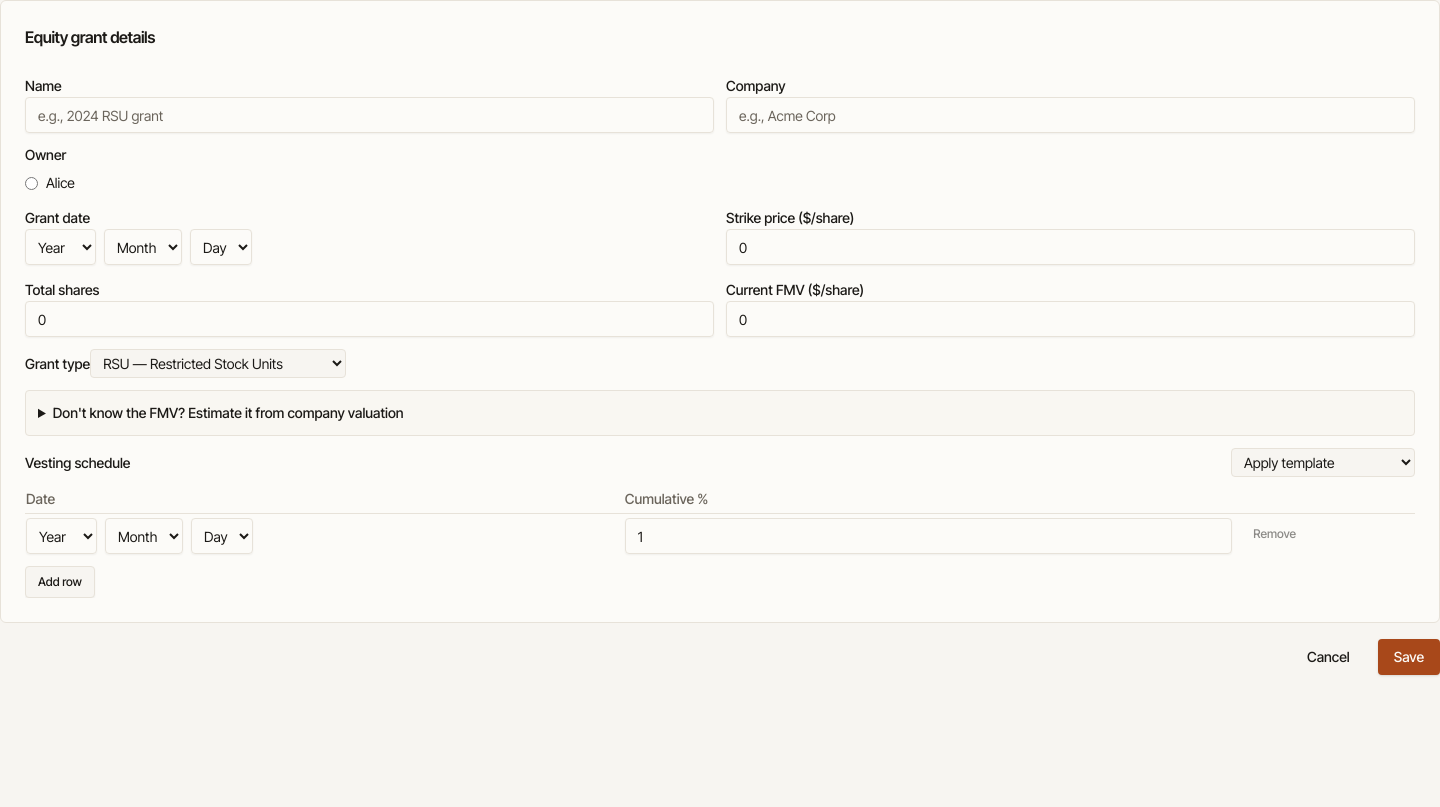
Test: EquityGrantForm — calculator section › "Use this value" writes the computed value into currentFmv
The image size is (1440, 807).
Click the heading "Don't know the FMV? Estimate it from company valuation": [228, 412] box [53,404,404,421]
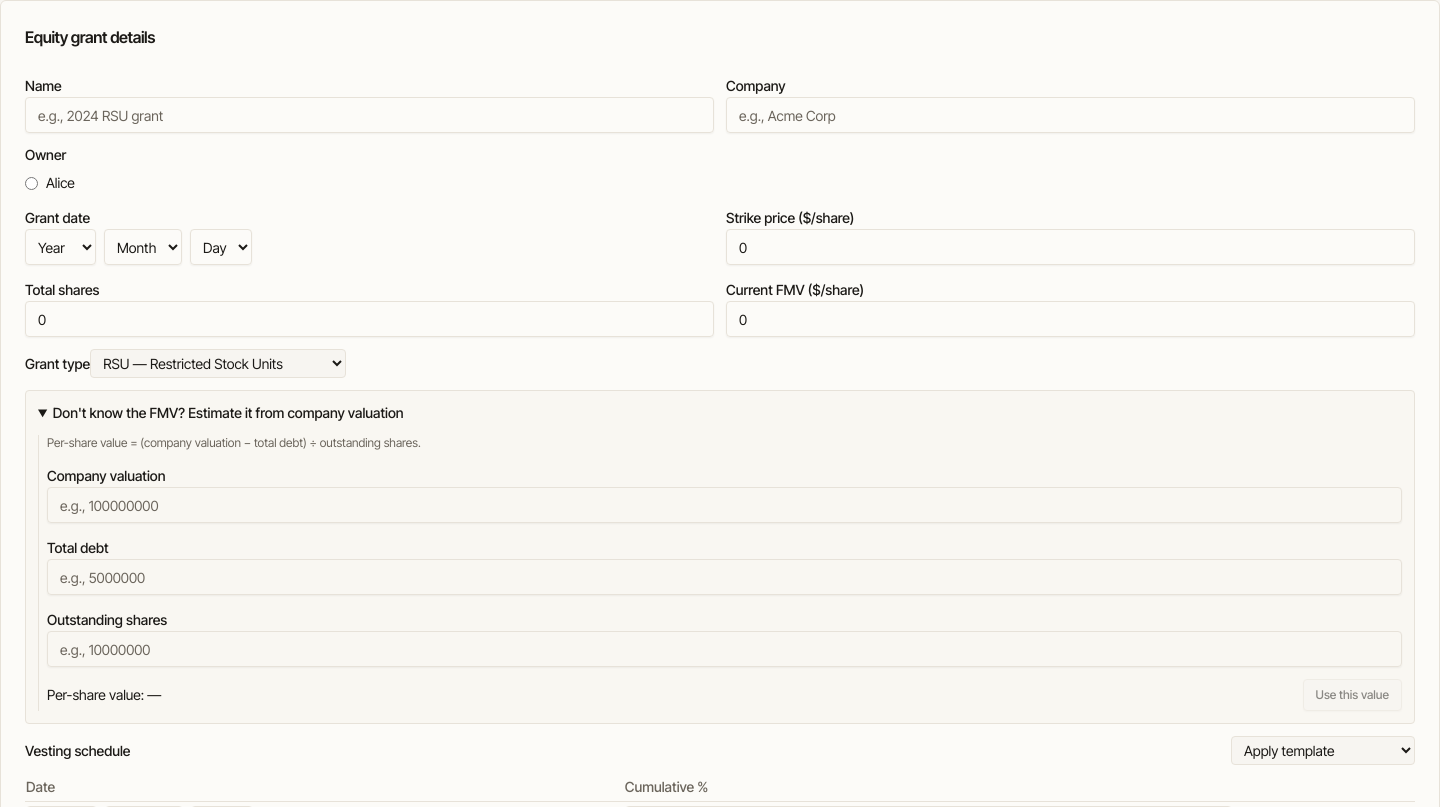
In the number field labelled "Company valuation": [724, 505] box [47,487,1402,523], type "1000000"
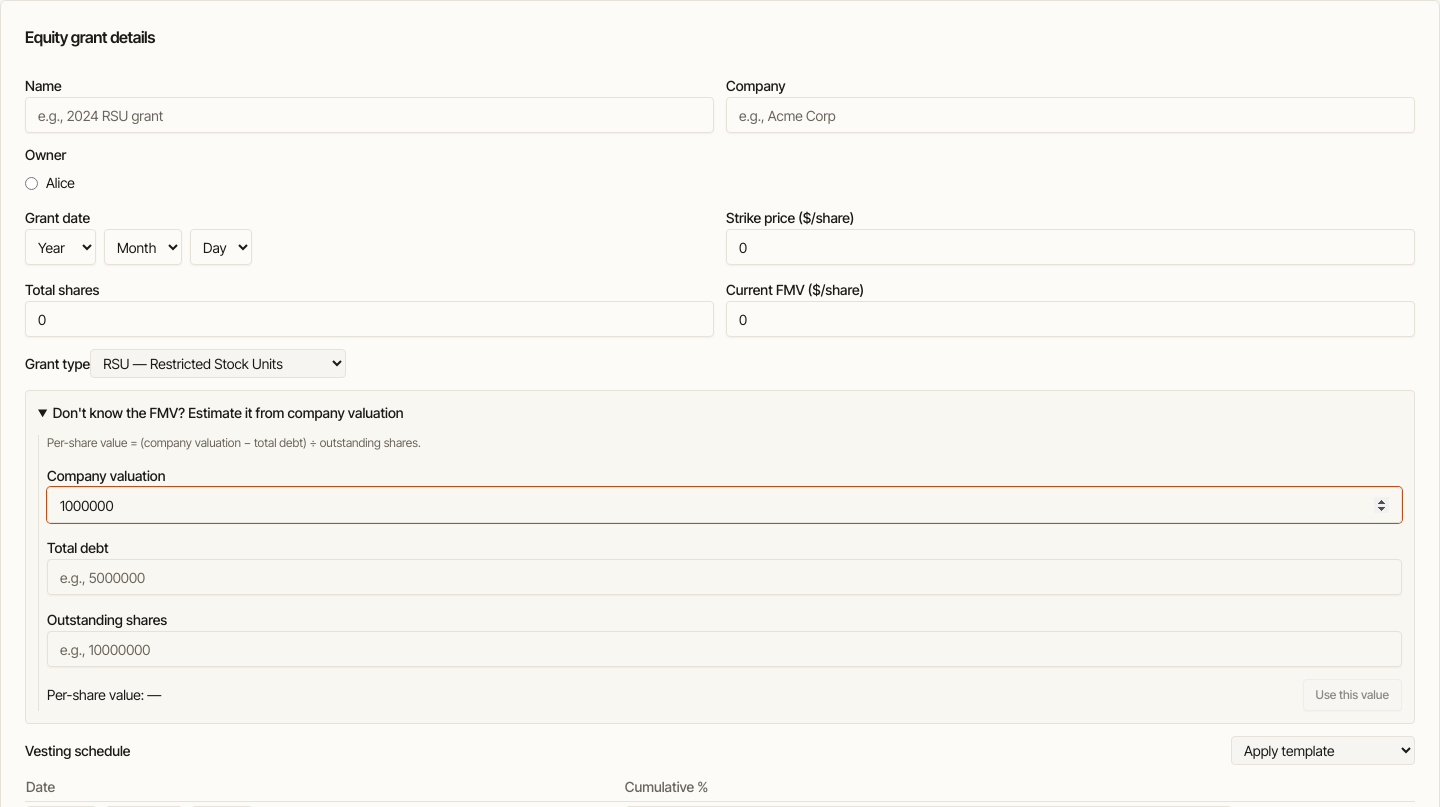
In the number field labelled "Total debt": [724, 577] box [47,559,1402,595], type "0"
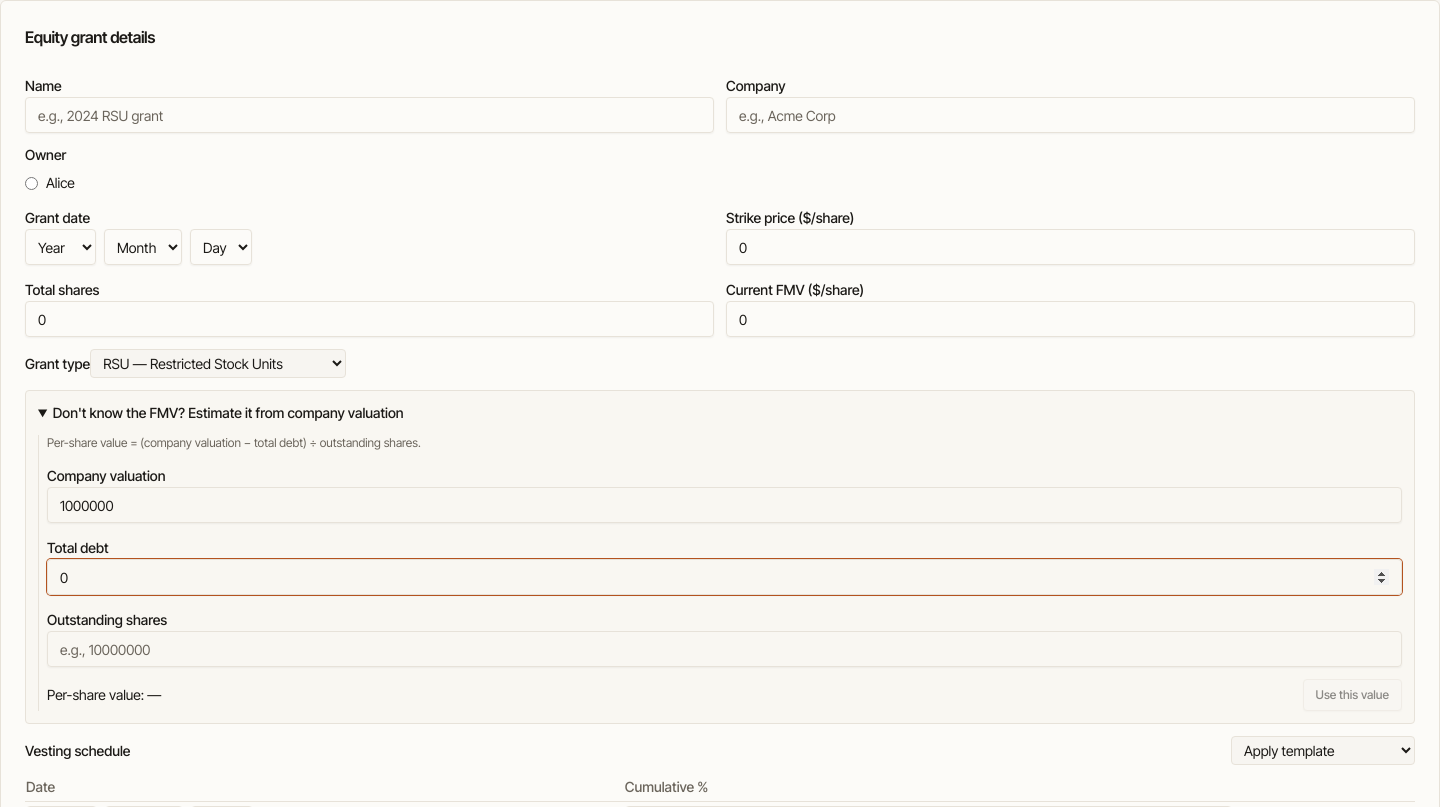
In the number field labelled "Outstanding shares": [724, 649] box [47,631,1402,667], type "100000"
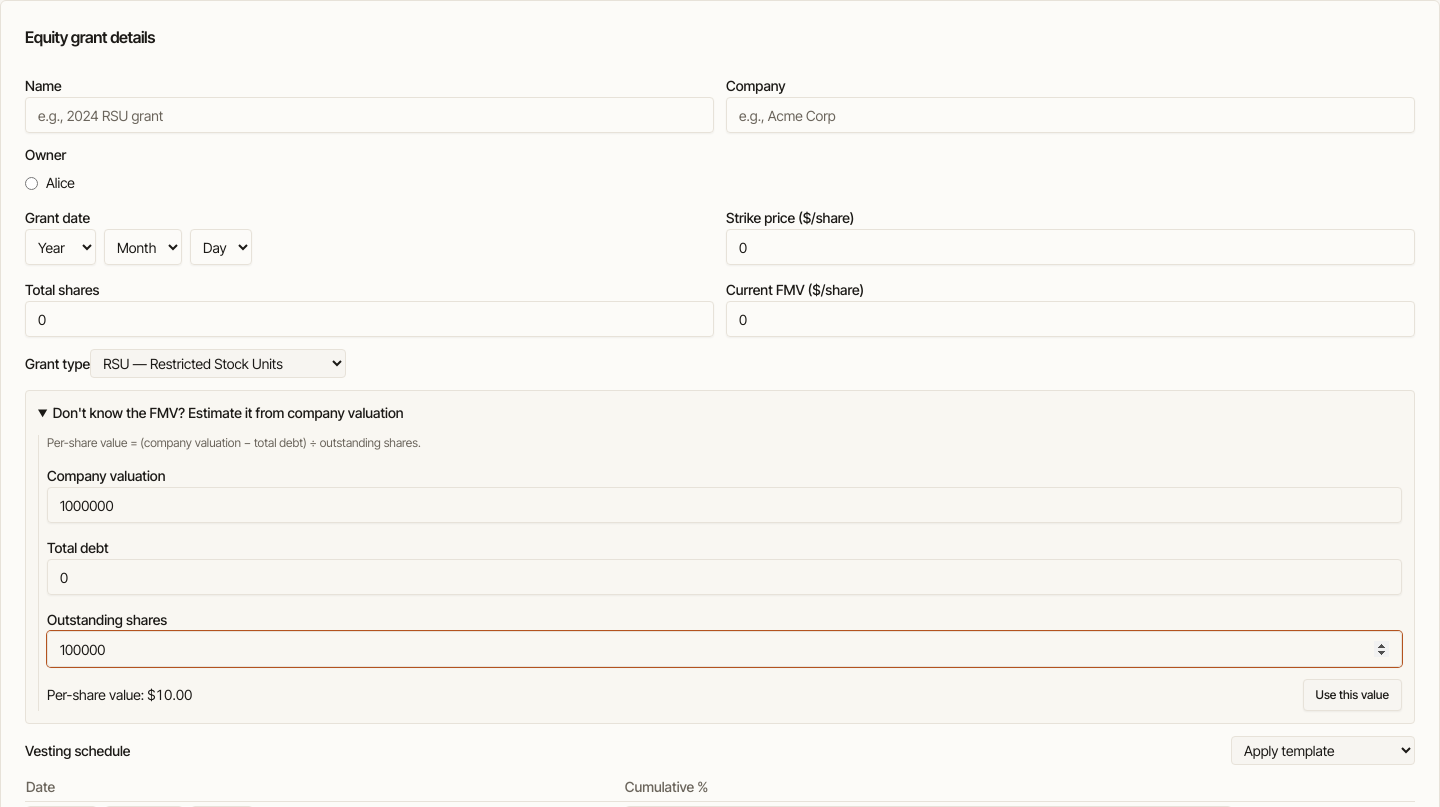
Click the button "Use this value": [1352, 695] box [1303,679,1402,711]
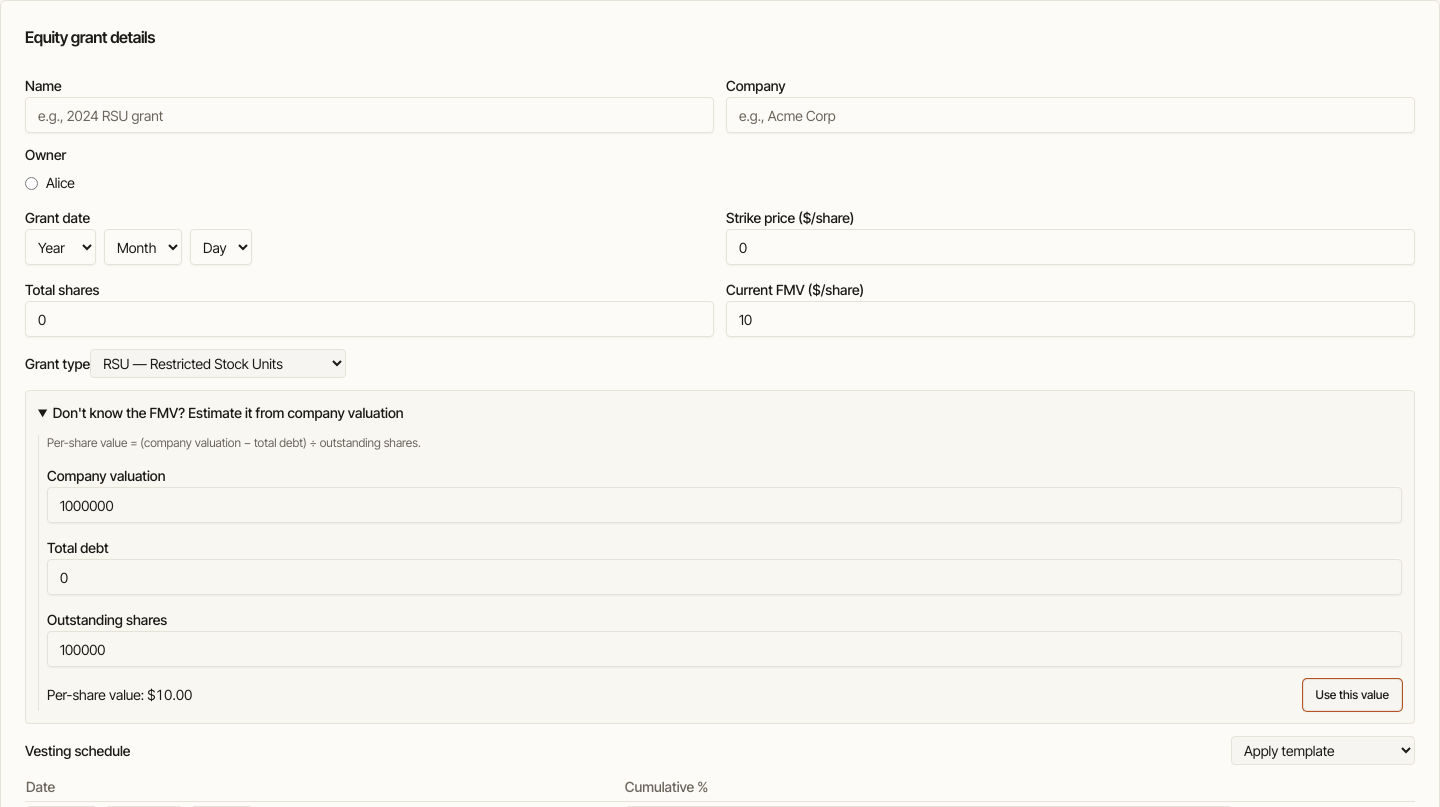
Check: the number field labelled "Current FMV ($/share)" holds "10", box [726,301,1415,337]
